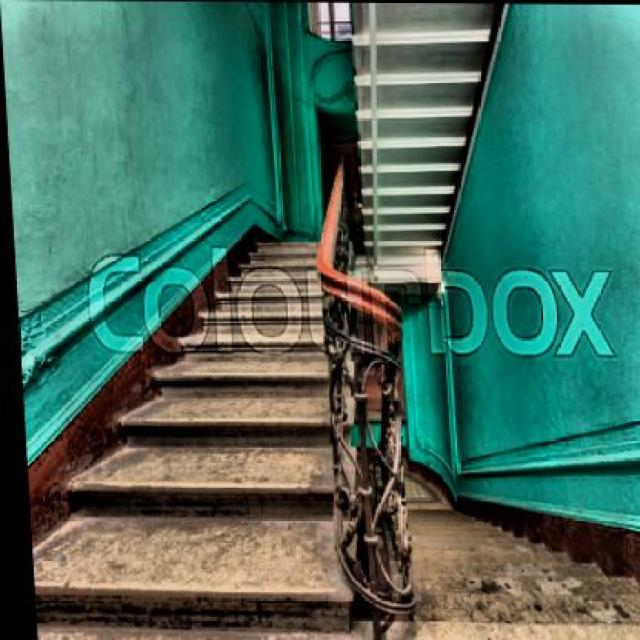stair: (10, 218, 372, 638)
